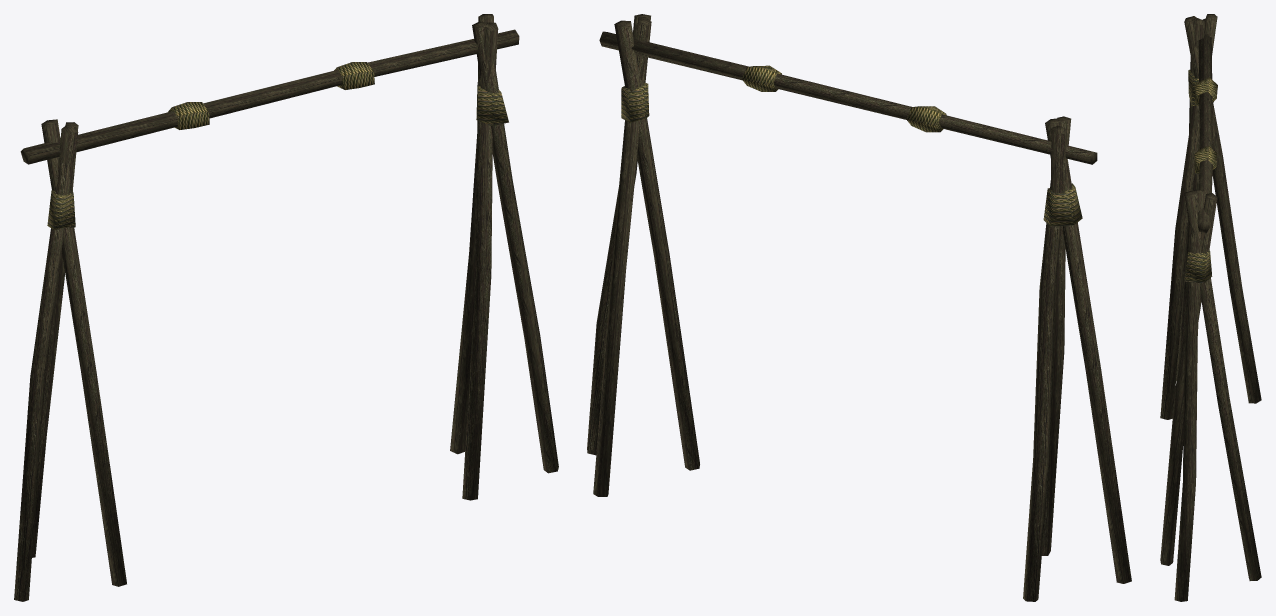
File: OC_CHICKENSTICK_V02.glb
3 renders of one model, left to right at view 1: azimuth 30°, elevation 25°; view 2: azimuth 150°, elevation 25°; view 3: azimuth 270°, elevation 25°, orthographic. The views are drawn at different scales.
Parts seen in each view (by area): view 1: Mesh; view 2: Mesh; view 3: Mesh.
Part boxes in pixels (box(x1,y1,x2,y2)): Mesh: box(14, 14, 558, 601); Mesh: box(587, 14, 1131, 601); Mesh: box(1160, 14, 1261, 601).
Size of the model in its own units: 3.24 by 2.58 by 0.6151.
Materials: 2 (2 with a texture image).
